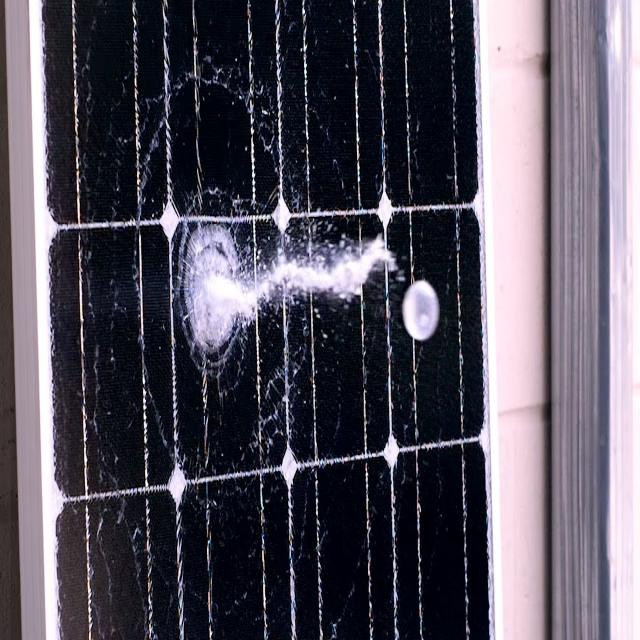hotspot: (166, 160, 414, 383)
